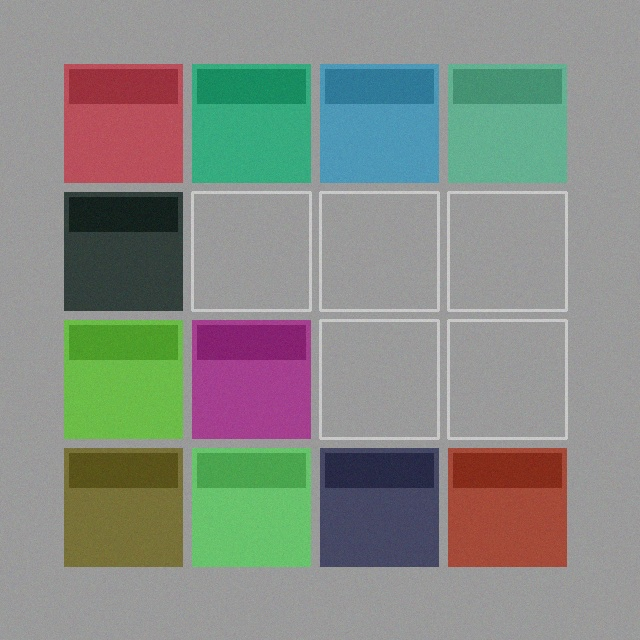space-empty: (192, 192, 310, 310), (320, 192, 438, 310), (448, 192, 566, 310), (320, 320, 438, 438), (448, 320, 566, 438)
space-occupied: (64, 64, 182, 182), (192, 64, 310, 182), (320, 64, 438, 182), (448, 64, 566, 182), (64, 192, 182, 310), (64, 320, 182, 438), (192, 320, 310, 438), (64, 448, 182, 566), (192, 448, 310, 566), (320, 448, 438, 566), (448, 448, 566, 566)
